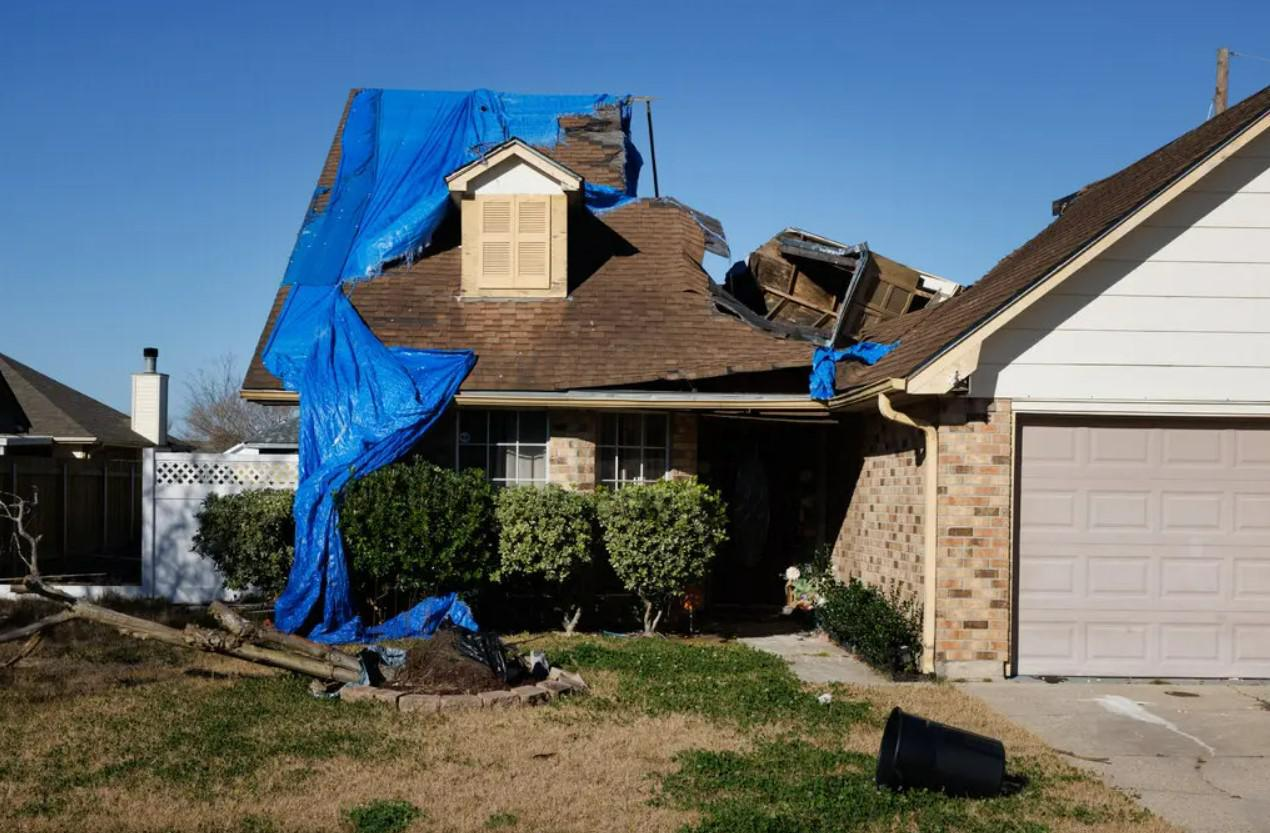major: (224, 42, 1270, 703)
